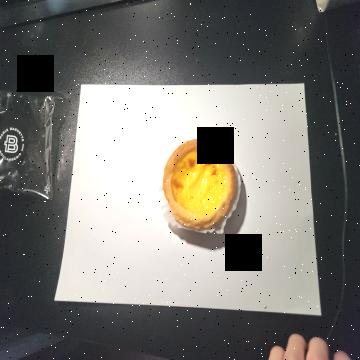EggTart: (163, 138, 237, 229)
